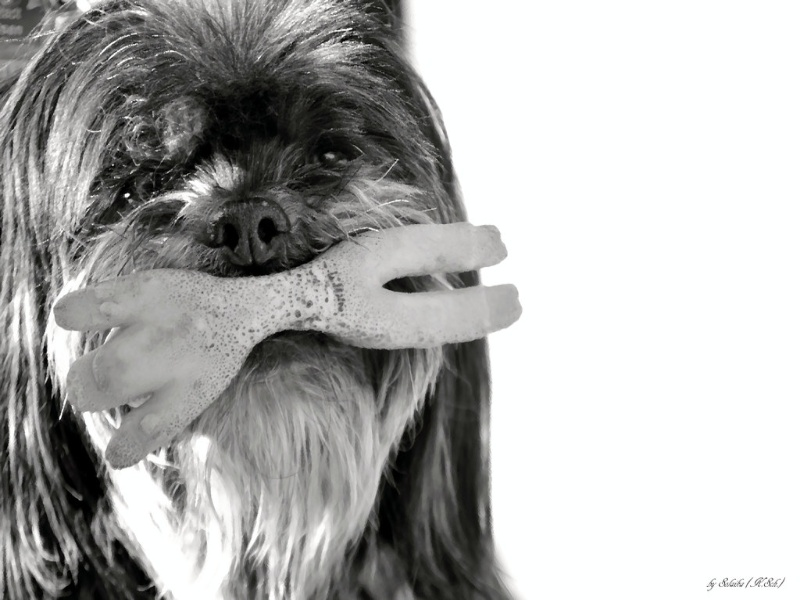dog: (4, 2, 505, 599)
